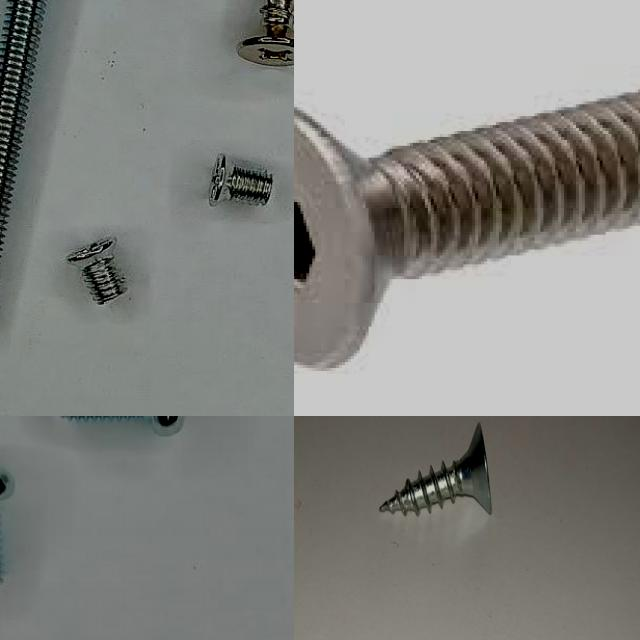Screw: (294, 90, 640, 374), (0, 0, 45, 252), (380, 422, 492, 515), (66, 238, 127, 305), (238, 0, 294, 66), (209, 154, 273, 206)
